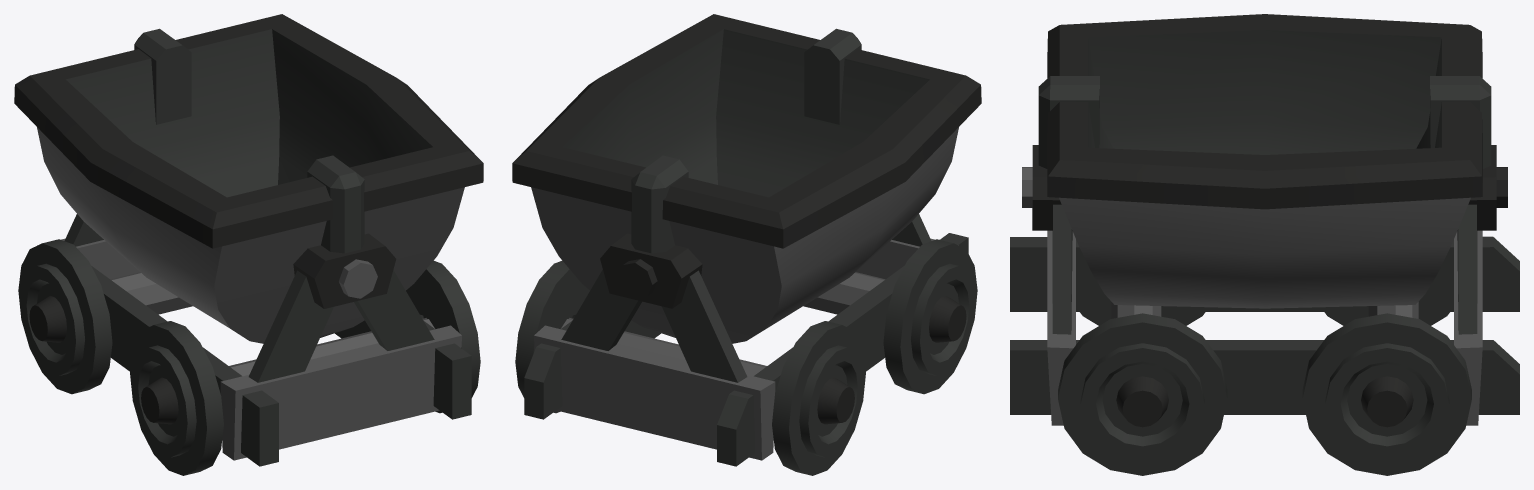
The model's file is minecart.fbx.
3 renders of one model, left to right at view 1: azimuth 30°, elevation 25°; view 2: azimuth 150°, elevation 25°; view 3: azimuth 270°, elevation 25°, orthographic. The views are drawn at different scales.
Visible parts, largest first — view 1: minecart_LOD0, rearwheel.r, frontwheel.r, frontwheel.l; view 2: minecart_LOD0, frontwheel.r, rearwheel.r, rearwheel.l; view 3: minecart_LOD0, frontwheel.l, rearwheel.l, frontwheel.r, rearwheel.r.
Part boxes in pixels (<box>): minecart_LOD0: <box>14,14,483,466</box>; rearwheel.r: <box>18,239,112,394</box>; frontwheel.r: <box>130,321,223,475</box>; frontwheel.l: <box>406,260,480,413</box>; minecart_LOD0: <box>512,14,981,466</box>; frontwheel.r: <box>883,239,977,394</box>; rearwheel.r: <box>772,321,865,475</box>; rearwheel.l: <box>515,260,589,413</box>; minecart_LOD0: <box>1010,14,1519,425</box>; frontwheel.l: <box>1058,313,1227,475</box>; rearwheel.l: <box>1302,313,1471,475</box>; frontwheel.r: <box>1080,312,1205,325</box>; rearwheel.r: <box>1324,312,1449,325</box>.
Size of what is drawn, in the model's own units: 1.63 by 1.44 by 2.07.
